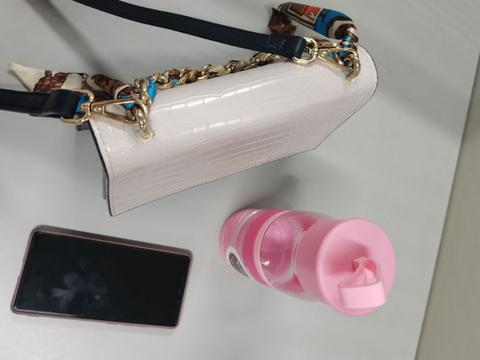bag: (0, 0, 400, 223)
cup: (218, 208, 398, 318)
phone: (11, 227, 188, 330)
